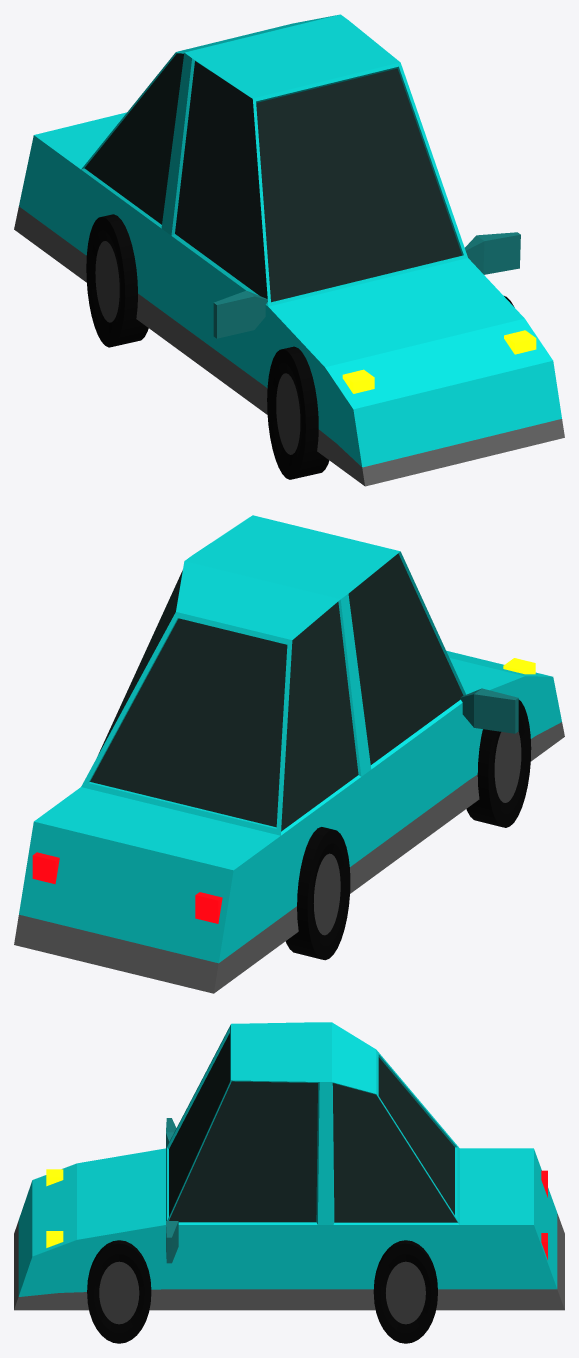
Rendered from Coche LP2.fbx.
3 views of the same model, one above another, from view 1: azimuth 30°, elevation 25°; view 2: azimuth 150°, elevation 25°; view 3: azimuth 270°, elevation 25° (orthographic). The views are drawn at different scales.
Parts seen in each view (by area): view 1: Cube.002; view 2: Cube.002; view 3: Cube.002.
Boxes of the visible parts, x1,y1,x2,y2 form: Cube.002: [14, 14, 564, 486]; Cube.002: [14, 515, 564, 993]; Cube.002: [14, 1022, 564, 1343].
Size of the model in its own units: 150 by 150 by 300.
